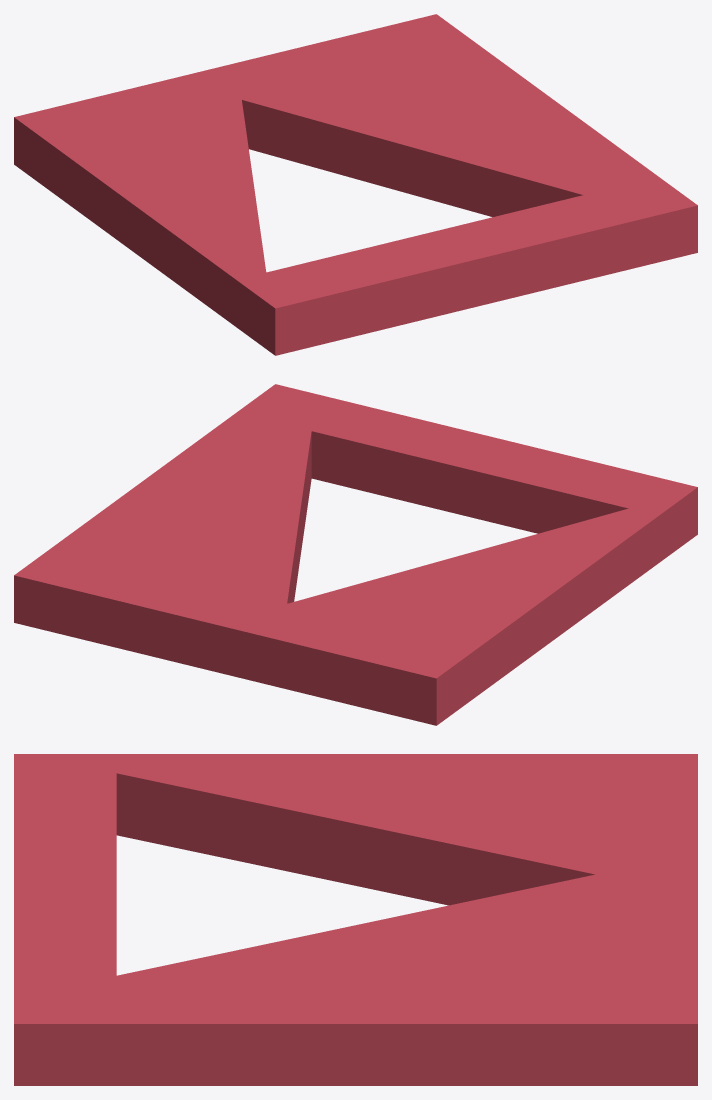
File: forat_equilater.glb
The picture shows the model from 3 angles, top to bottom: view 1: azimuth 30°, elevation 25°; view 2: azimuth 150°, elevation 25°; view 3: azimuth 270°, elevation 25°; orthographic projection. The views are drawn at different scales.
Parts seen in each view (by area): view 1: Mesh_Mesh_head_geo.001_lambert2SG.001; view 2: Mesh_Mesh_head_geo.001_lambert2SG.001; view 3: Mesh_Mesh_head_geo.001_lambert2SG.001.
Part boxes in pixels (x1,y1,x2,y2): Mesh_Mesh_head_geo.001_lambert2SG.001: (14,14,697,355); Mesh_Mesh_head_geo.001_lambert2SG.001: (14,384,697,725); Mesh_Mesh_head_geo.001_lambert2SG.001: (14,754,697,1085).
Size of the model in its own units: 28 by 3 by 30.
